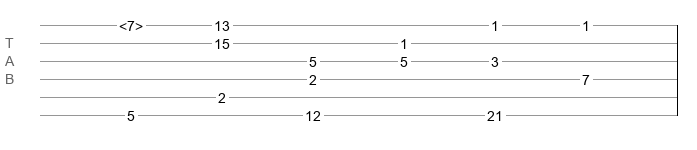1: (400, 36, 408, 46), (491, 18, 499, 28), (582, 18, 590, 28)
12: (305, 108, 321, 118)
13: (214, 18, 230, 28)
15: (214, 36, 230, 46)
2: (218, 90, 226, 100), (309, 72, 317, 82)
21: (487, 108, 503, 118)
3: (491, 54, 499, 64)
5: (127, 108, 135, 118), (309, 54, 317, 64), (400, 54, 408, 64)
7: (582, 72, 590, 82)
harmonic: (119, 18, 143, 28)
